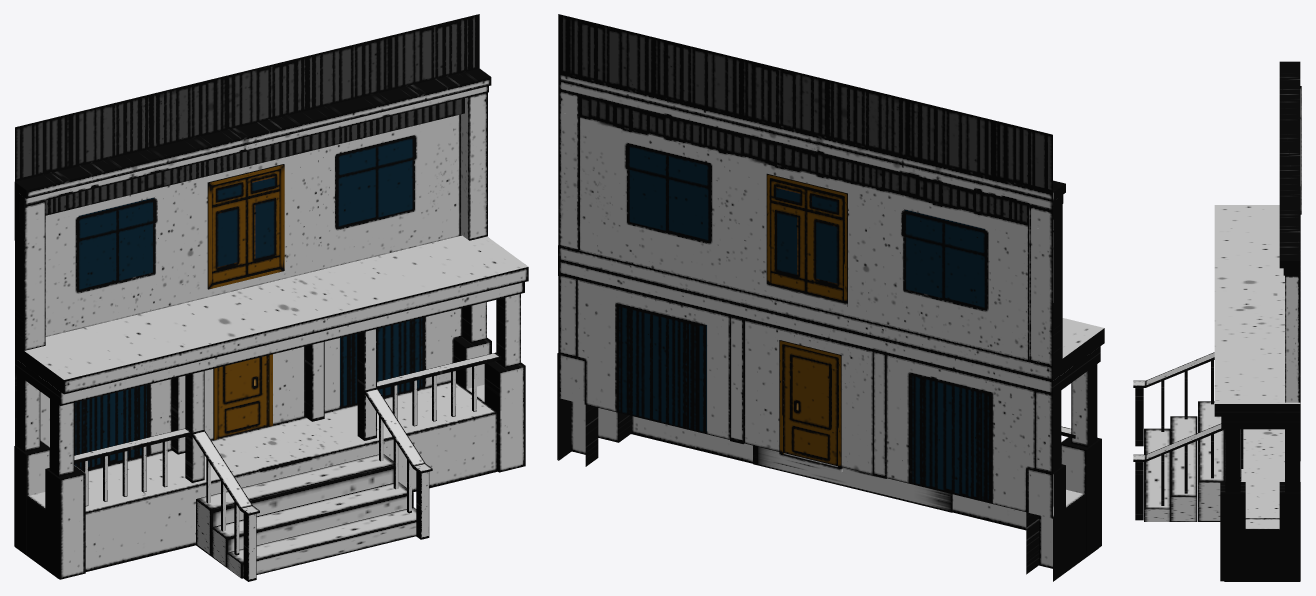
Rendered from building2.obj.
3 views of the same model, side by side, from view 1: azimuth 30°, elevation 25°; view 2: azimuth 150°, elevation 25°; view 3: azimuth 270°, elevation 25° (orthographic). The views are drawn at different scales.
Visible parts, largest first — view 1: Plane; view 2: Plane; view 3: Plane.
Part boxes in pixels (bbox=[...]): Plane: bbox=[14, 14, 528, 581]; Plane: bbox=[557, 14, 1104, 581]; Plane: bbox=[1133, 61, 1301, 581].
Size of the model in its own units: 5.01 by 4.31 by 1.79.
